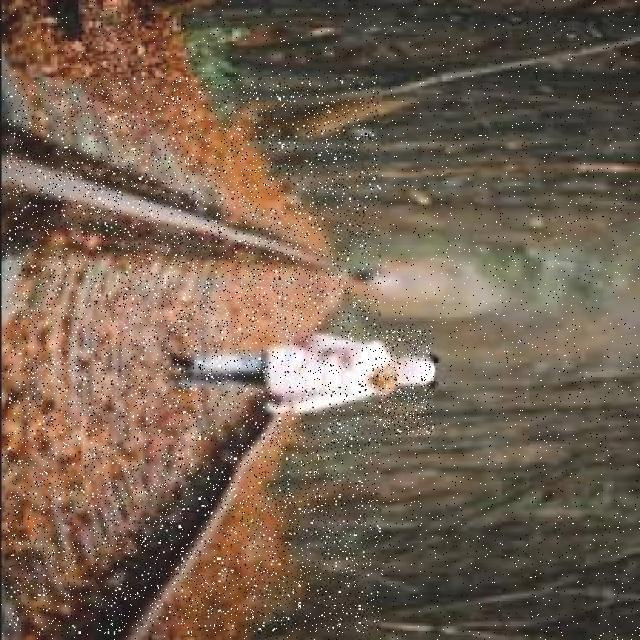danger: (164, 330, 431, 435)
rail: (6, 77, 379, 633)
